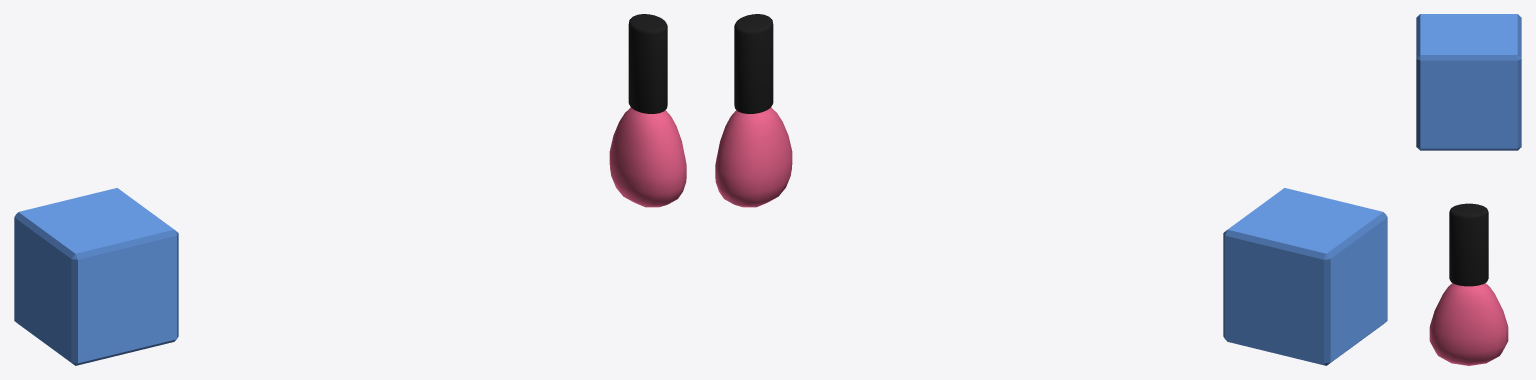
Rendered from Nail Paint revised.fbx.
The picture shows the model from 3 angles, left to right: view 1: azimuth 30°, elevation 25°; view 2: azimuth 150°, elevation 25°; view 3: azimuth 270°, elevation 25°; orthographic projection. The views are drawn at different scales.
Visible parts, largest first — view 1: Block, Cube, Cylinder; view 2: Block, Cube, Cylinder; view 3: Block, Cube, Cylinder.
Part boxes in pixels (x1,y1,x2,y2): Block: (14, 188, 178, 365); Cube: (609, 107, 686, 207); Cylinder: (628, 14, 667, 113); Block: (1223, 188, 1387, 365); Cube: (715, 107, 792, 207); Cylinder: (734, 14, 773, 113); Block: (1416, 14, 1521, 150); Cube: (1429, 283, 1508, 365); Cylinder: (1449, 203, 1488, 286).
Bounding box in the file's own units: 1186 × 321 × 200.
